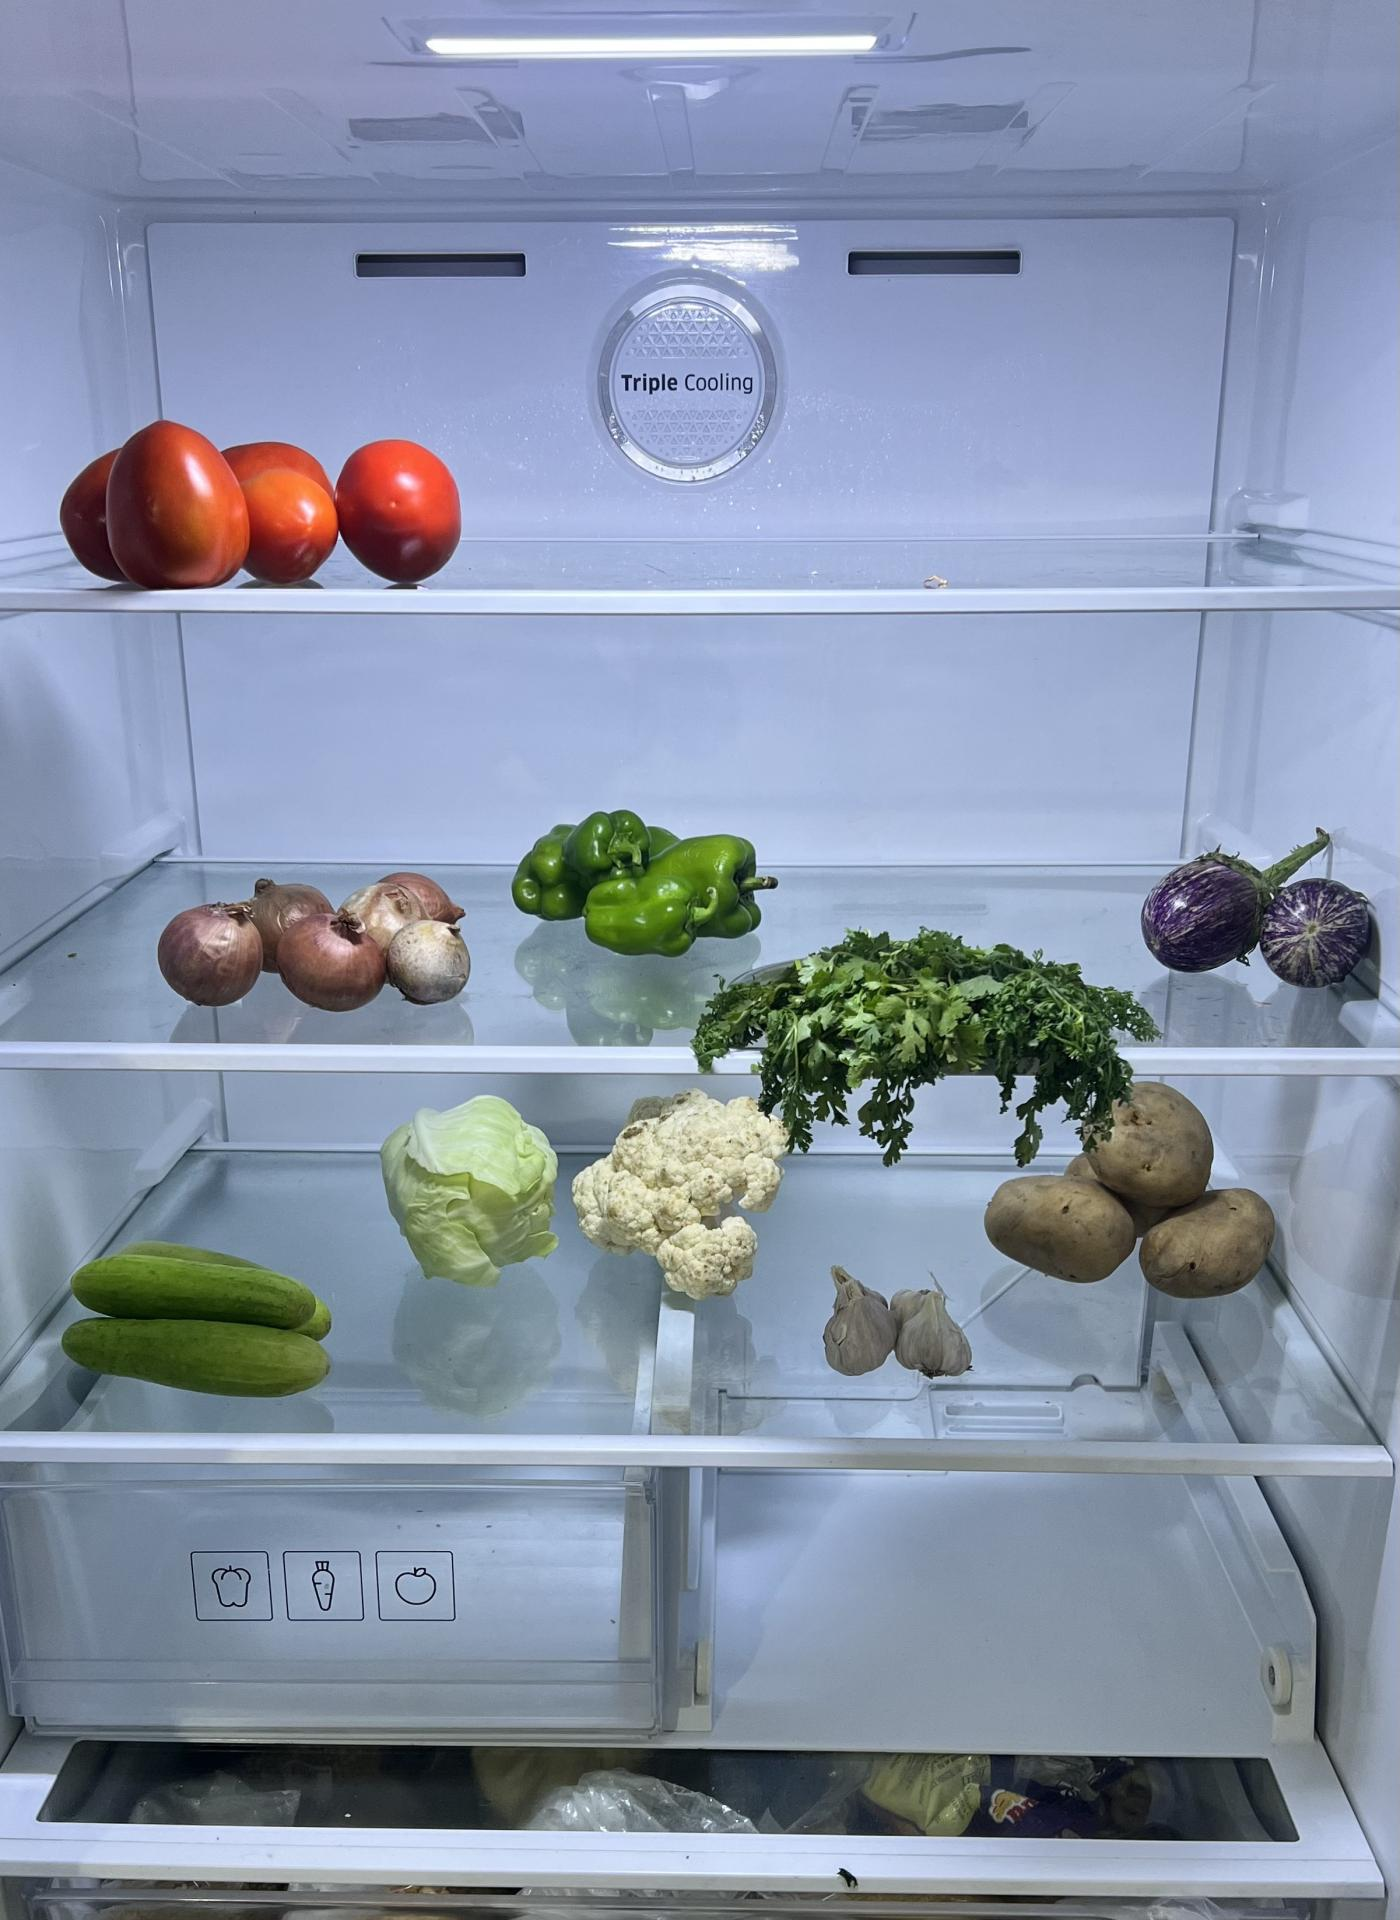brinjal: (1153, 839, 1391, 1002)
cabbage: (386, 1088, 565, 1276)
capsicum: (513, 805, 766, 957)
cauliflower: (571, 1096, 784, 1301)
coriander: (704, 932, 1142, 1117)
cucumber: (55, 1251, 347, 1404)
garlic: (822, 1257, 978, 1379)
onion: (152, 875, 470, 1020)
potato: (993, 1085, 1285, 1298)
tomato: (63, 426, 476, 598)
